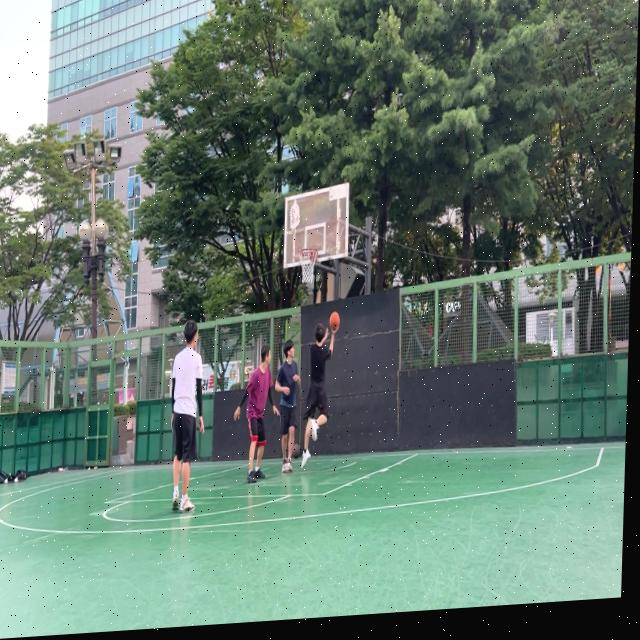basketball: (329, 310, 341, 331), (292, 443, 301, 460)
hoop: (297, 247, 318, 285)
